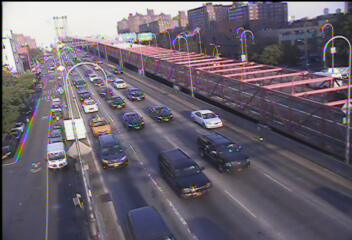neg: (212, 132, 247, 180), (45, 56, 77, 99), (278, 176, 307, 213), (52, 176, 77, 209), (104, 135, 128, 168), (120, 76, 144, 108), (35, 14, 59, 46), (191, 94, 215, 125), (252, 53, 275, 83), (199, 39, 220, 67), (133, 36, 153, 63), (73, 98, 92, 122), (154, 170, 172, 193), (264, 120, 281, 142), (83, 19, 96, 37), (289, 90, 301, 107)
